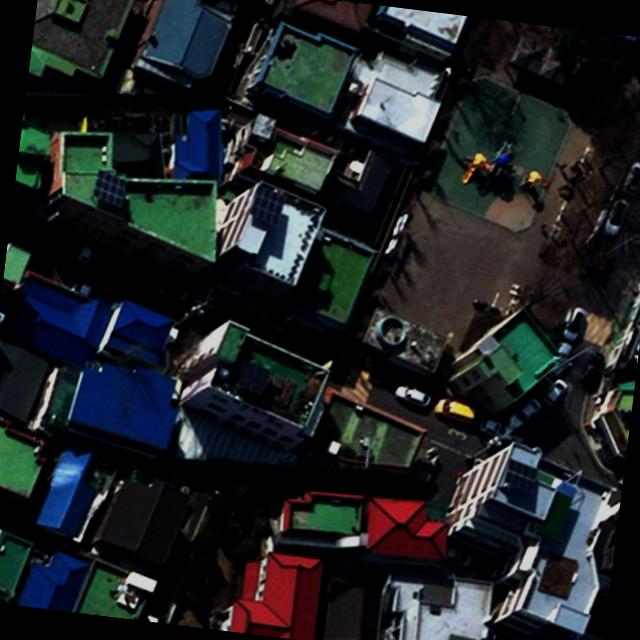solar: (90, 168, 132, 212), (248, 184, 286, 226), (235, 358, 272, 398), (502, 458, 540, 496)
